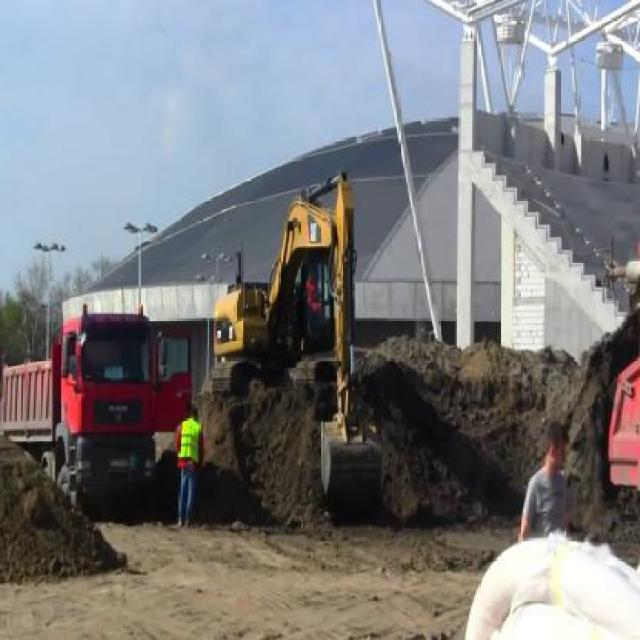dump_truck: (2, 302, 190, 513)
excavator: (207, 169, 384, 523)
